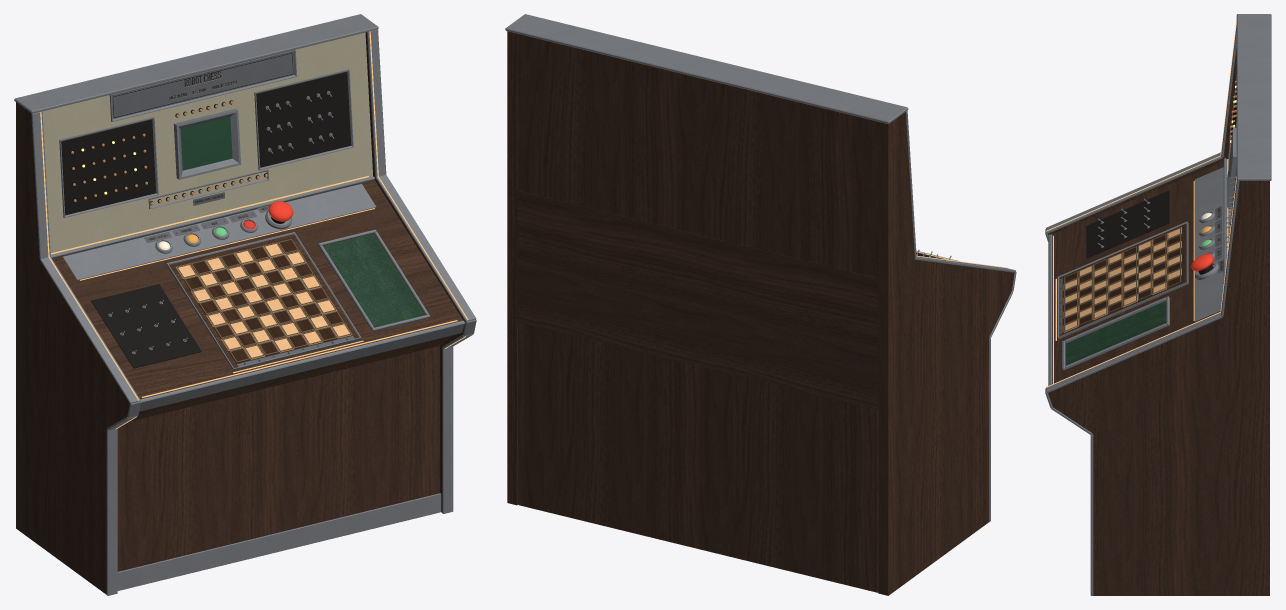
Rendered from prinz.glb.
3 renders of one model, left to right at view 1: azimuth 30°, elevation 25°; view 2: azimuth 150°, elevation 25°; view 3: azimuth 270°, elevation 25°, orthographic. The views are drawn at different scales.
Visible parts, largest first — view 1: Prinz_wood, Prinz_steel, Prinz_enamel, Prinz_bakelite, Prinz_parts, Prinz_maple, Prinz_darksq, Prinz_felt, Prinz_glow, Monitor_Tube, Prinz_black; view 2: Prinz_wood, Prinz_steel; view 3: Prinz_wood, Prinz_steel, Prinz_bakelite, Prinz_darksq, Prinz_maple, Prinz_felt, Prinz_glow, Prinz_parts, Button_Next.
Boxes of the visible parts, <box> form: Prinz_wood: <box>16,32,465,594</box>; Prinz_steel: <box>14,14,476,595</box>; Prinz_enamel: <box>42,32,373,255</box>; Prinz_bakelite: <box>61,72,351,368</box>; Prinz_parts: <box>111,52,354,366</box>; Prinz_maple: <box>175,243,352,359</box>; Prinz_darksq: <box>183,238,344,363</box>; Prinz_felt: <box>323,234,424,327</box>; Prinz_glow: <box>40,31,468,428</box>; Monitor_Tube: <box>180,117,232,170</box>; Prinz_black: <box>70,100,267,205</box>; Prinz_wood: <box>507,31,1014,595</box>; Prinz_steel: <box>505,14,1016,521</box>; Prinz_wood: <box>1048,48,1269,595</box>; Prinz_steel: <box>1045,14,1271,595</box>; Prinz_bakelite: <box>1086,89,1236,258</box>; Prinz_darksq: <box>1063,233,1181,326</box>; Prinz_maple: <box>1063,227,1181,332</box>; Prinz_felt: <box>1066,301,1166,365</box>; Prinz_glow: <box>1046,21,1236,387</box>; Prinz_parts: <box>1059,206,1223,334</box>; Button_Next: <box>1191,254,1213,274</box>.
Bounding box in the file's own units: 1.53 × 1.81 × 0.8887.
Materials: 21 (7 with a texture image).
